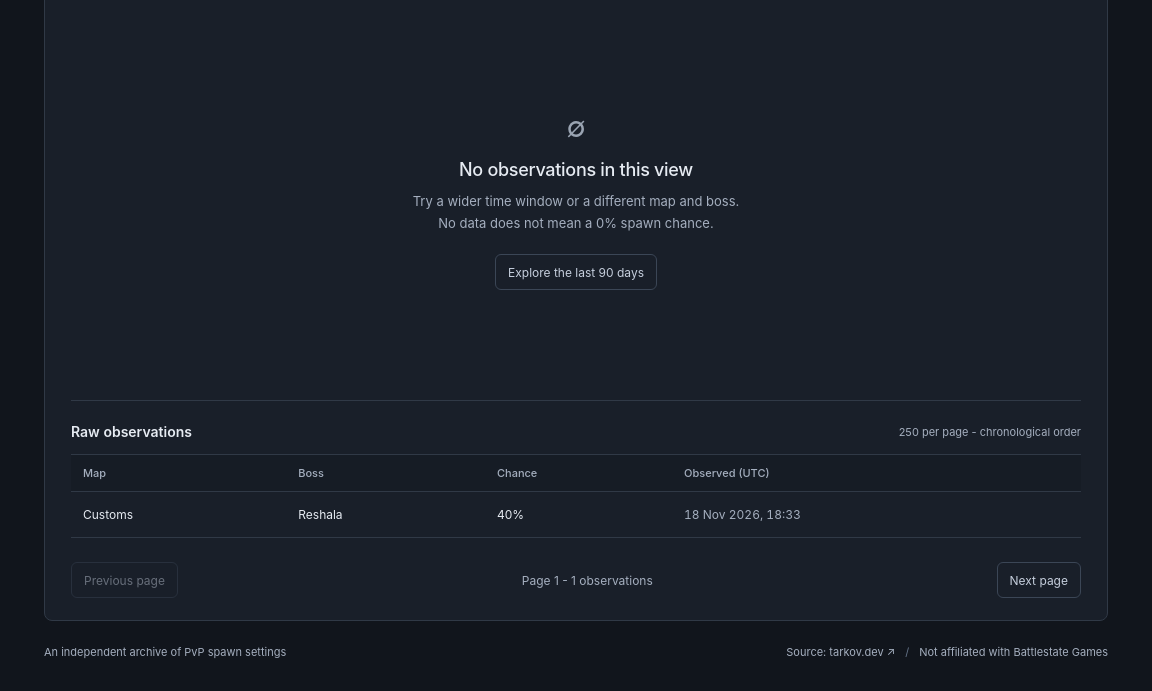
Scenario: expired page cursor restarts raw observations from the first page
(page scrolled)
Click the button "Next page": [1039, 580] box [997,562,1081,598]
(page scrolled)
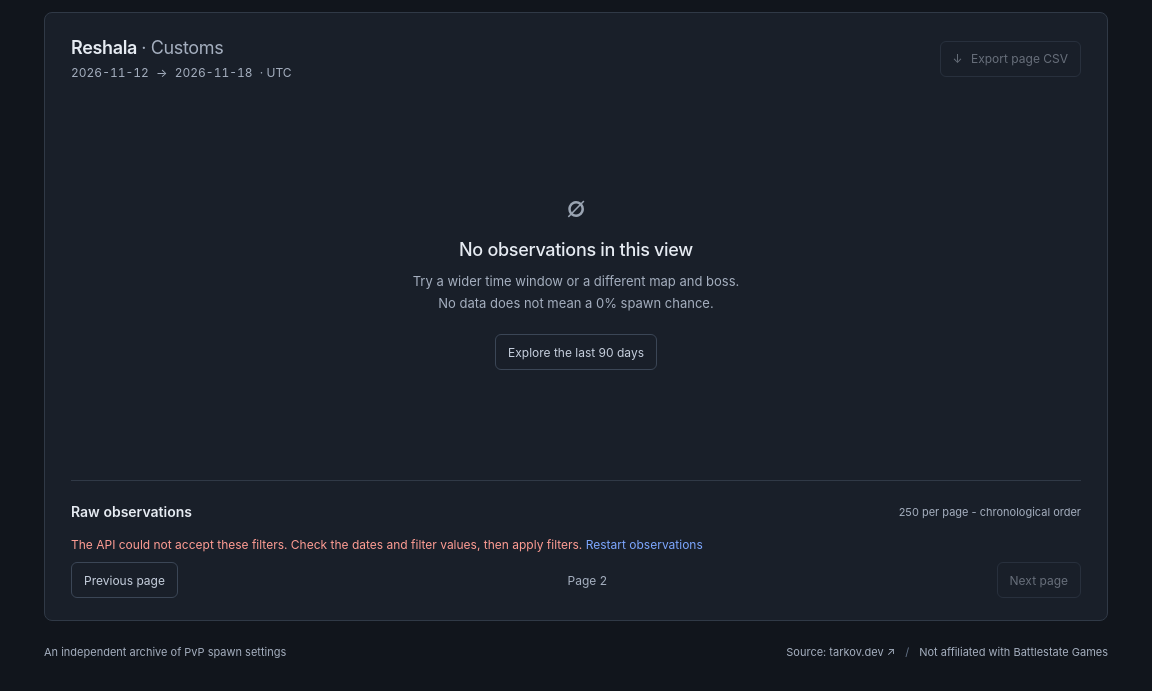
Result: the button "Restart observations" is shown
Click the button "Restart observations": [644, 544] box [586,534,703,554]
(page scrolled)
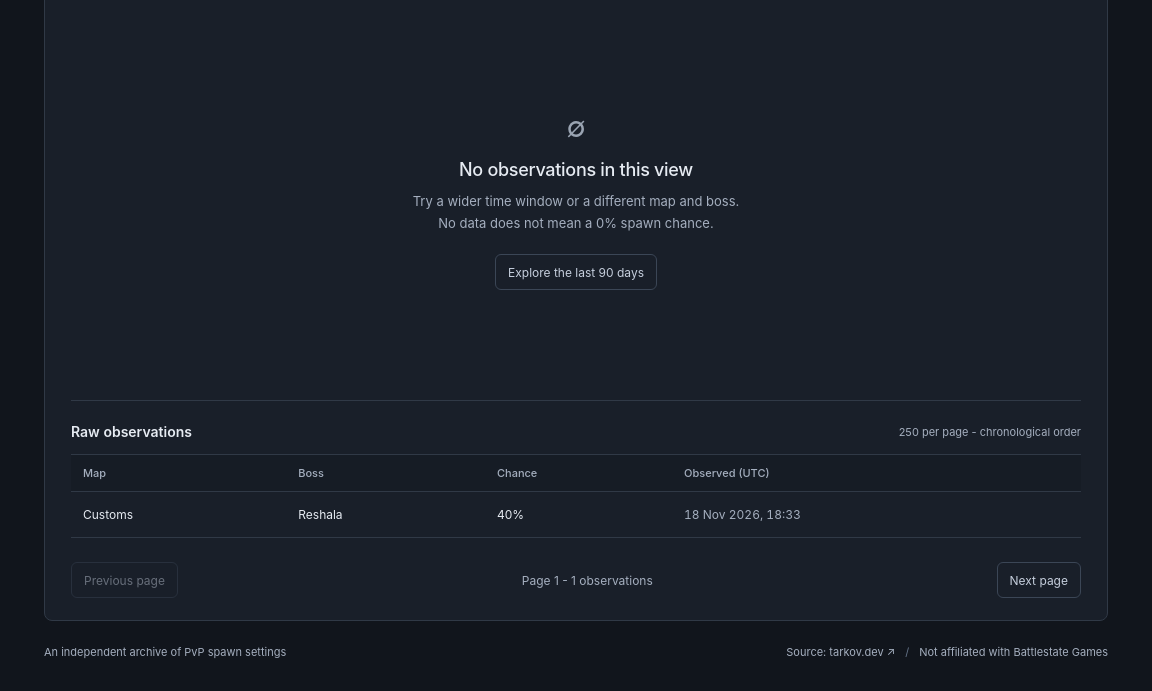
Result: the text "Page 1 - 1 observations" is shown at [522,573,653,588]
Result: the button "Previous page" is disabled at [71,562,178,598]
